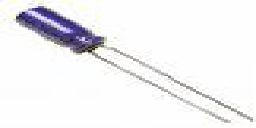Electrolytic-Capacitor: (15, 2, 256, 124)
